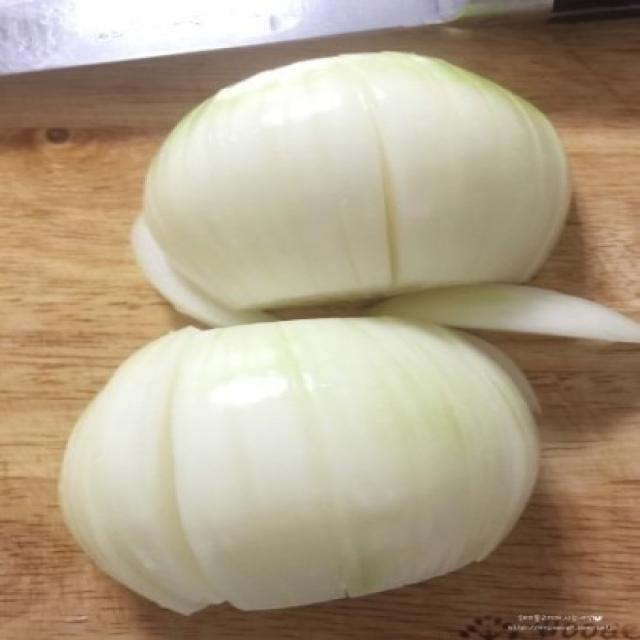Onion: (57, 309, 622, 599), (106, 44, 640, 331)
